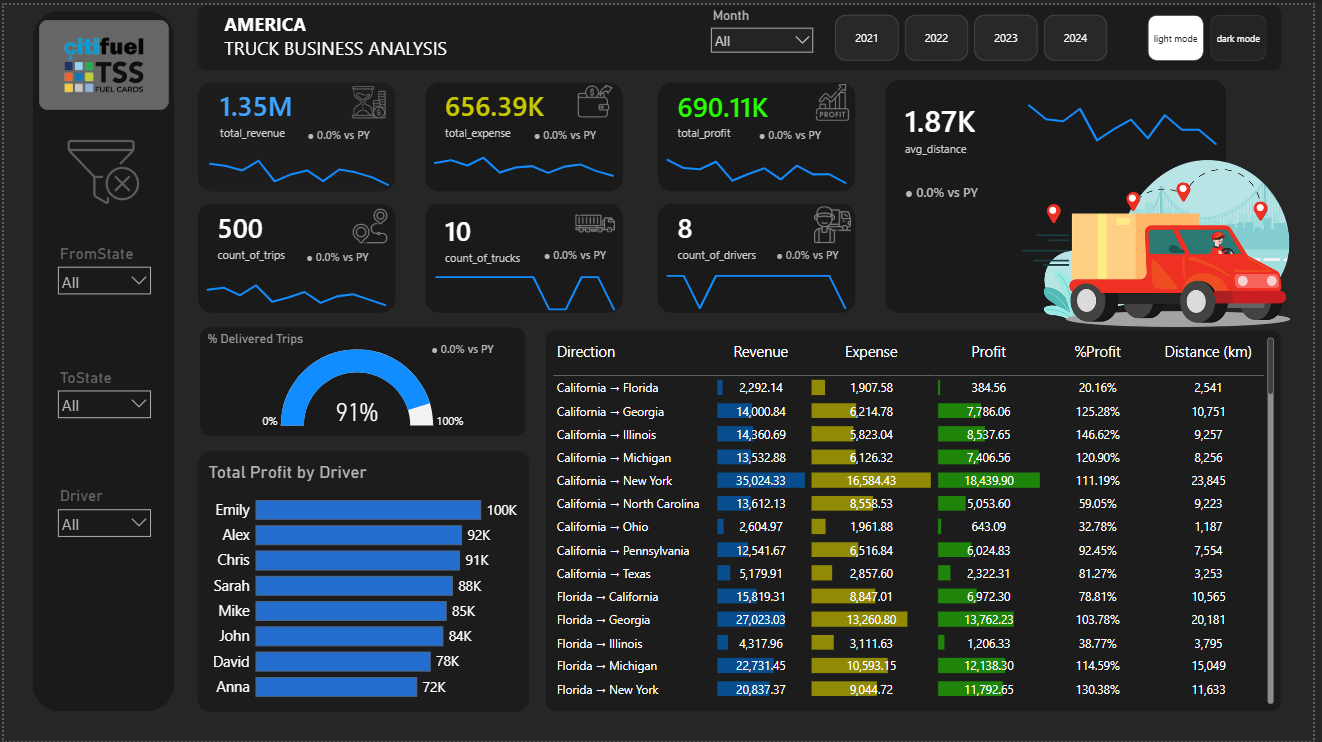

The dashboard page shown, as its layout file describes it:
{"tool":"powerbi","page":{"name":"light mode","canvas":[1920,1080],"ordinal":0},"visuals":[{"type":"shape","box":[1294,110,500,342],"z":0},{"type":"shape","box":[618,292,290,160],"z":1000},{"type":"shape","box":[960,292,290,160],"z":2000},{"type":"shape","box":[960,114,290,160],"z":3000},{"type":"shape","box":[42,8,208,1028],"z":4000},{"type":"clusteredBarChart","title":"Total Profit by Driver","fields":{"Y":["measures (2).total_profit"],"Category":["Trip.Driver"]},"box":[284,654,486,382],"z":5000},{"type":"tableEx","fields":{"Values":["Trip.Direction","Sum(Trip.Revenue_$)","Sum(Trip.Expense_$)","Sum(Trip.Profit_$)","measures (2).profit_foizda","Sum(Trip.Distance_km)"]},"box":[794,476,1080,560],"z":6000},{"type":"image","box":[36,26,214,138],"z":7000},{"type":"gauge","fields":{"Y":["measures (2).% Delivered Trips"]},"box":[288,473.2,476.9,159.6],"z":8000},{"type":"image","box":[1462,190,458,318],"z":9000},{"type":"textbox","box":[284,0,1590,96],"z":10000},{"type":"slicer","fields":{"Values":["Trip.FromState"]},"box":[60.5,337.5,166,116],"z":11000},{"type":"slicer","fields":{"Values":["Trip.ToState"]},"box":[60.5,522.8,166,116],"z":12000},{"type":"slicer","fields":{"Values":["Trip.Driver"]},"box":[60.5,697,166,116],"z":13000},{"type":"image","box":[73.4,187.1,144.9,104.6],"z":14000},{"type":"slicer","fields":{"Values":["DateTable.MonthName"]},"box":[1028,0,170,86],"z":15000},{"type":"shape","box":[284.3,114.3,290,160],"z":16000},{"type":"cardVisual","fields":{"Data":["measures (2).total_profit"]},"box":[960,104,198.6,111.4],"z":17000},{"type":"cardVisual","fields":{"Data":["MeasureWithoutCard.Profit Trend"]},"box":[1098,158,180,58],"z":18000},{"type":"shape","box":[618.6,114.3,290,160],"z":19000},{"type":"shape","box":[285,292.5,290,160],"z":20000},{"type":"lineChart","fields":{"Y":["measures (2).total_profit"],"Category":["DateTable.MonthName"]},"box":[960,204,290,68],"z":21000},{"type":"cardVisual","fields":{"Data":["measures (2).total_expense"]},"box":[618,102,222,112],"z":22000},{"type":"cardVisual","fields":{"Data":["MeasureWithoutCard.Expense_Trend"]},"box":[748,160,180,58],"z":23000},{"type":"lineChart","fields":{"Y":["measures (2).total_expense"],"Category":["DateTable.MonthName"]},"box":[618,204,290,68],"z":24000},{"type":"cardVisual","fields":{"Data":["measures (2).total_revenue"]},"box":[288,102,246,112],"z":25000},{"type":"cardVisual","fields":{"Data":["MeasureWithoutCard.Revenue_Trend"]},"box":[417.2,160.4,180,58],"z":26000},{"type":"lineChart","fields":{"Y":["measures (2).total_revenue"],"Category":["DateTable.MonthName"]},"box":[287.2,204.4,290,68],"z":27000},{"type":"cardVisual","fields":{"Data":["measures (2).count_of_trips"]},"box":[284.4,282,198.6,111.4],"z":28000},{"type":"cardVisual","fields":{"Data":["MeasureWithoutCard.Trips_Trend"]},"box":[414.4,340,180,58],"z":29000},{"type":"lineChart","fields":{"Y":["measures (2).count_of_trips"],"Category":["DateTable.MonthName"]},"box":[284.4,384,290,68],"z":30000},{"type":"cardVisual","fields":{"Data":["measures (2).count_of_trucks"]},"box":[618,286,198.6,111.4],"z":31000},{"type":"cardVisual","fields":{"Data":["MeasureWithoutCard.Trucks_Trend"]},"box":[750,341.2,180,58],"z":32000},{"type":"lineChart","fields":{"Category":["DateTable.MonthName"],"Y":["measures (2).count_of_trucks"]},"box":[620,385.2,290,68],"z":33000},{"type":"cardVisual","fields":{"Data":["measures (2).count_of_drivers"]},"box":[959.3,283.3,198.6,111.4],"z":34000},{"type":"cardVisual","fields":{"Data":["MeasureWithoutCard.Drivers_Trend"]},"box":[1097.3,337.3,180,58],"z":35000},{"type":"lineChart","fields":{"Category":["DateTable.MonthName"],"Y":["measures (2).count_of_drivers"]},"box":[959.3,383.3,290,68],"z":36000},{"type":"cardVisual","fields":{"Data":["measures (2).avg_distance"]},"box":[1294,118,210,126],"z":37000},{"type":"lineChart","fields":{"Y":["measures (2).total_profit"],"Category":["DateTable.MonthName"]},"box":[1490,118,304,100],"z":38000},{"type":"cardVisual","fields":{"Data":["MeasureWithoutCard.Avg_distance_Trend"]},"box":[1294,244,180,58],"z":39000},{"type":"cardVisual","fields":{"Data":["MeasureWithoutCard.DelieveredTrips_Trend"]},"box":[597.2,472.4,180,58],"z":40000},{"type":"image","box":[508,116,54,54],"z":41000},{"type":"image","box":[840,114,54,54],"z":42000},{"type":"image","box":[1188,116,54,54],"z":43000},{"type":"image","box":[510,298,54,54],"z":44000},{"type":"image","box":[838,292,58,58],"z":45000},{"type":"image","box":[1188,296,54,54],"z":46000},{"type":"pageNavigator","box":[1678.3,14.7,174.3,67.9],"z":47000},{"type":"advancedSlicerVisual","fields":{"Values":["DateTable.Year"]},"box":[1230.8,7.3,410.9,78.9],"z":48000}]}

Visuals, with their boxes in screenshot pixels (x1, y1, x2, y2), scaled from the page's 1920x1080 canvas onto the 1322x742 screenshot:
shape: <region>891, 76, 1235, 311</region>
shape: <region>426, 201, 625, 311</region>
shape: <region>661, 201, 861, 311</region>
shape: <region>661, 78, 861, 188</region>
shape: <region>29, 5, 172, 712</region>
"Total Profit by Driver" clusteredBarChart: <region>196, 449, 530, 712</region>
tableEx - Trip.Direction x Sum(Trip.Revenue_$): <region>547, 327, 1290, 712</region>
image: <region>25, 18, 172, 113</region>
gauge - measures (2).% Delivered Trips: <region>198, 325, 527, 435</region>
image: <region>1007, 131, 1321, 349</region>
textbox: <region>196, 0, 1290, 66</region>
slicer - Trip.FromState: <region>42, 232, 156, 312</region>
slicer - Trip.ToState: <region>42, 359, 156, 439</region>
slicer - Trip.Driver: <region>42, 479, 156, 559</region>
image: <region>51, 129, 150, 200</region>
slicer - DateTable.MonthName: <region>708, 0, 825, 59</region>
shape: <region>196, 79, 395, 188</region>
cardVisual - measures (2).total_profit: <region>661, 71, 798, 148</region>
cardVisual - MeasureWithoutCard.Profit Trend: <region>756, 109, 880, 148</region>
shape: <region>426, 79, 626, 188</region>
shape: <region>196, 201, 396, 311</region>
lineChart - measures (2).total_profit x DateTable.MonthName: <region>661, 140, 861, 187</region>
cardVisual - measures (2).total_expense: <region>426, 70, 578, 147</region>
cardVisual - MeasureWithoutCard.Expense_Trend: <region>515, 110, 639, 150</region>
lineChart - measures (2).total_expense x DateTable.MonthName: <region>426, 140, 625, 187</region>
cardVisual - measures (2).total_revenue: <region>198, 70, 368, 147</region>
cardVisual - MeasureWithoutCard.Revenue_Trend: <region>287, 110, 411, 150</region>
lineChart - measures (2).total_revenue x DateTable.MonthName: <region>198, 140, 397, 187</region>
cardVisual - measures (2).count_of_trips: <region>196, 194, 333, 270</region>
cardVisual - MeasureWithoutCard.Trips_Trend: <region>285, 234, 409, 273</region>
lineChart - measures (2).count_of_trips x DateTable.MonthName: <region>196, 264, 395, 311</region>
cardVisual - measures (2).count_of_trucks: <region>426, 196, 562, 273</region>
cardVisual - MeasureWithoutCard.Trucks_Trend: <region>516, 234, 640, 274</region>
lineChart - DateTable.MonthName x measures (2).count_of_trucks: <region>427, 265, 627, 311</region>
cardVisual - measures (2).count_of_drivers: <region>661, 195, 797, 271</region>
cardVisual - MeasureWithoutCard.Drivers_Trend: <region>756, 232, 879, 272</region>
lineChart - DateTable.MonthName x measures (2).count_of_drivers: <region>661, 263, 860, 310</region>
cardVisual - measures (2).avg_distance: <region>891, 81, 1036, 168</region>
lineChart - measures (2).total_profit x DateTable.MonthName: <region>1026, 81, 1235, 150</region>
cardVisual - MeasureWithoutCard.Avg_distance_Trend: <region>891, 168, 1015, 207</region>
cardVisual - MeasureWithoutCard.DelieveredTrips_Trend: <region>411, 325, 535, 364</region>
image: <region>350, 80, 387, 117</region>
image: <region>578, 78, 616, 115</region>
image: <region>818, 80, 855, 117</region>
image: <region>351, 205, 388, 242</region>
image: <region>577, 201, 617, 240</region>
image: <region>818, 203, 855, 240</region>
pageNavigator: <region>1156, 10, 1276, 57</region>
advancedSlicerVisual - DateTable.Year: <region>847, 5, 1130, 59</region>
